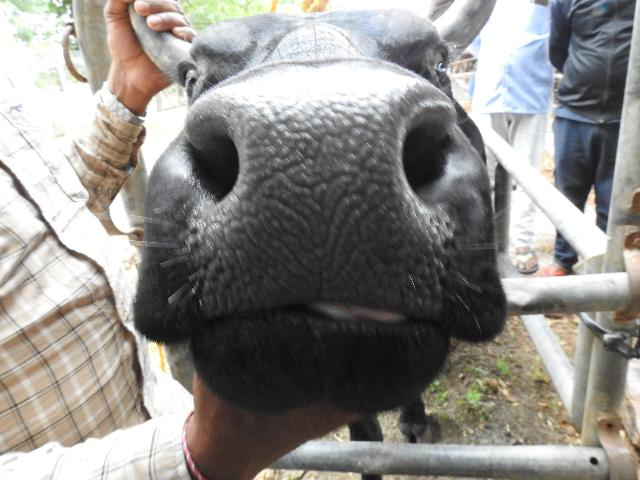Muzzle: (208, 89, 424, 305)
